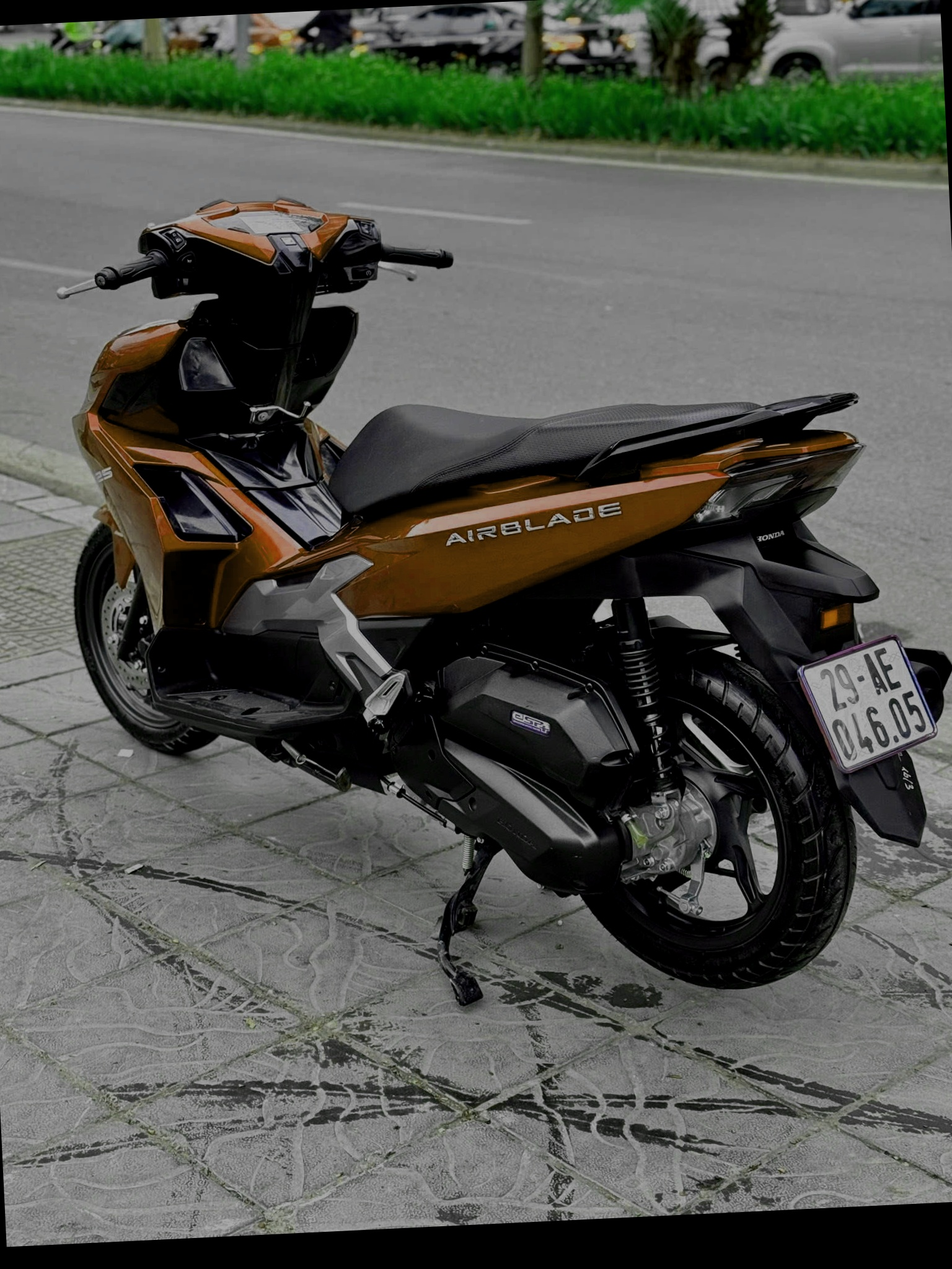Bien-so: (805, 635, 943, 776)
